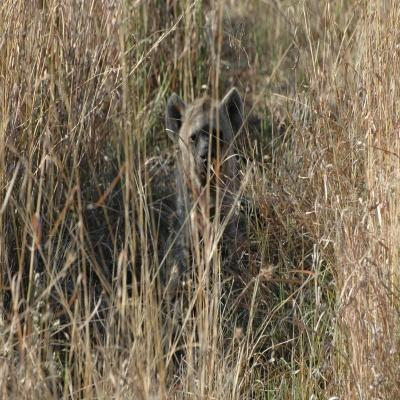hyenas: (138, 72, 275, 344)
